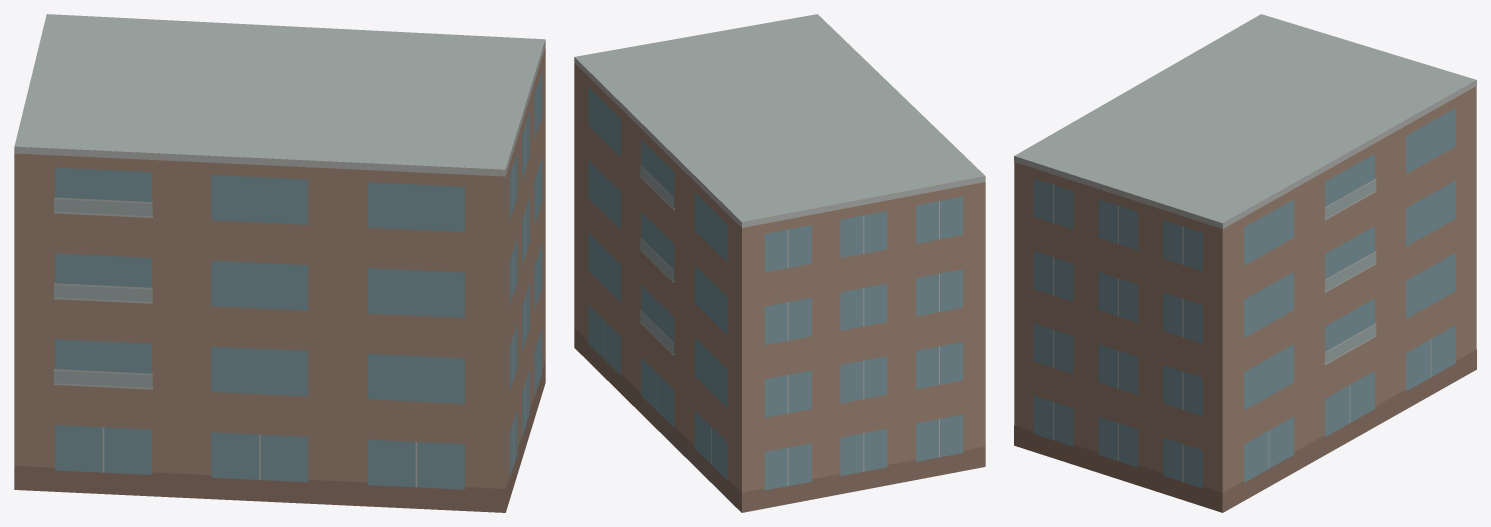
Rendered from survey-upis-32633197.glb.
The picture shows the model from 3 angles, left to right: view 1: azimuth 30°, elevation 25°; view 2: azimuth 150°, elevation 25°; view 3: azimuth 270°, elevation 25°; orthographic projection. The views are drawn at different scales.
Visible parts, largest first — view 1: survey-upis-32633197.tmp; view 2: survey-upis-32633197.tmp; view 3: survey-upis-32633197.tmp.
Boxes of the visible parts, <box> form: survey-upis-32633197.tmp: <box>14,14,545,512</box>; survey-upis-32633197.tmp: <box>574,14,985,512</box>; survey-upis-32633197.tmp: <box>1014,14,1476,512</box>.
Bounding box in the file's own units: 18.84 × 12.15 × 17.6.
